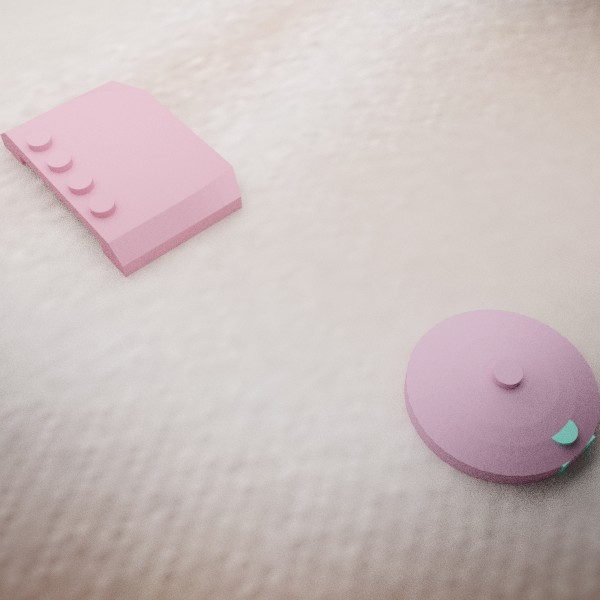lego: (0, 80, 242, 277), (404, 309, 599, 484), (483, 372, 595, 475), (406, 364, 476, 431)
